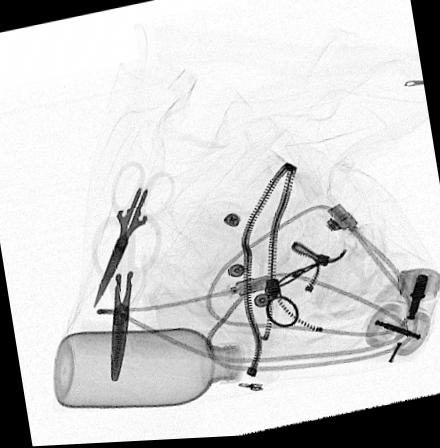Scissors: (87, 209, 168, 385), (90, 160, 180, 312)
